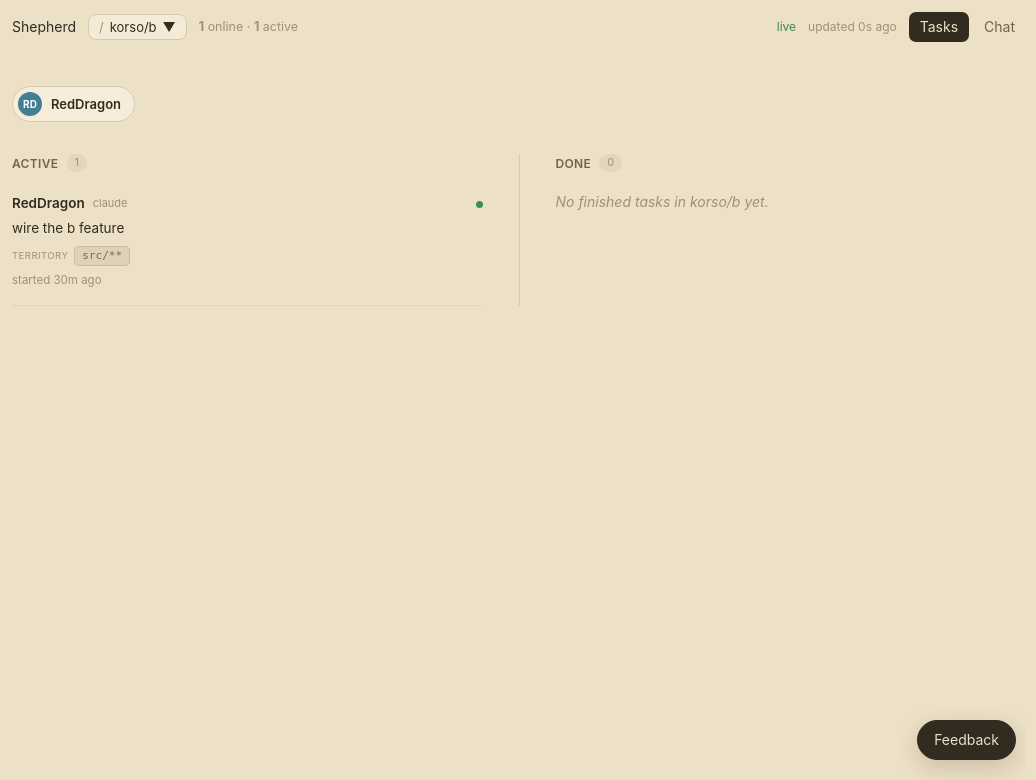
Test: Dashboard › shows the active/done column-count badges for the current filter
Expected: the text with id "active-count" reads "1", [74,155,79,169]
Expected: the text with id "done-count" reads "0", [607,155,614,169]
Switch to All repos: 2 active, 1 done across both repos.
Click the button with aria-label "Filter by repo" at (137, 27), box [88,14,187,40]
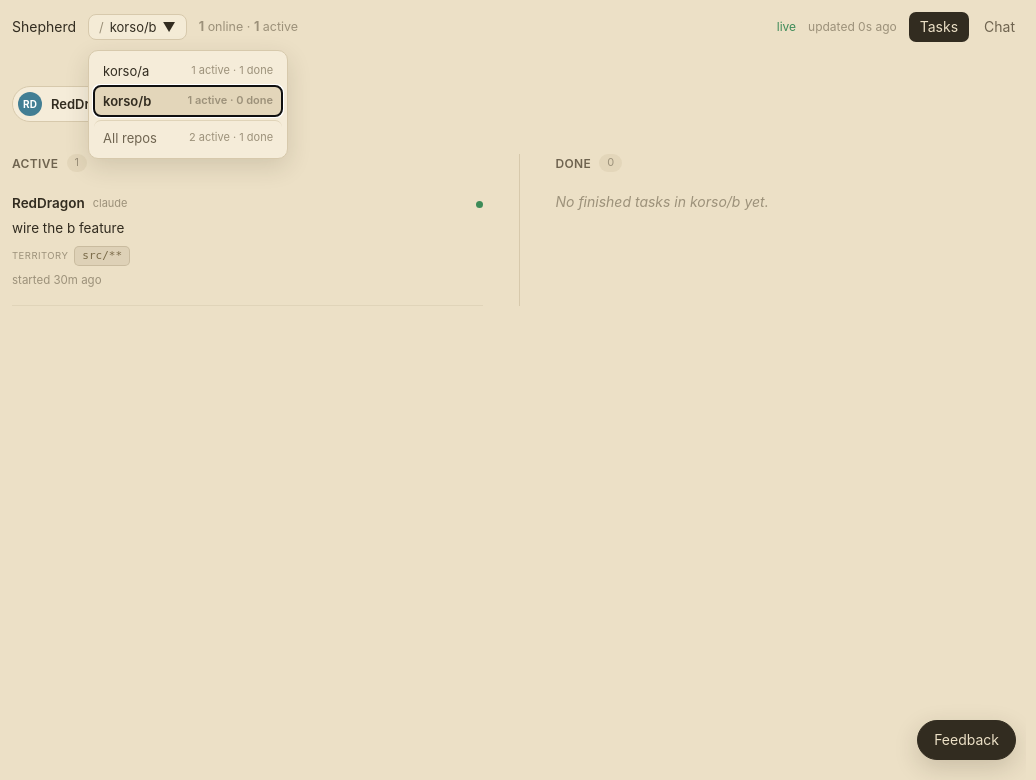
Click the option "All repos 2 active · 1 done" at (188, 137), box [94,120,282,153]
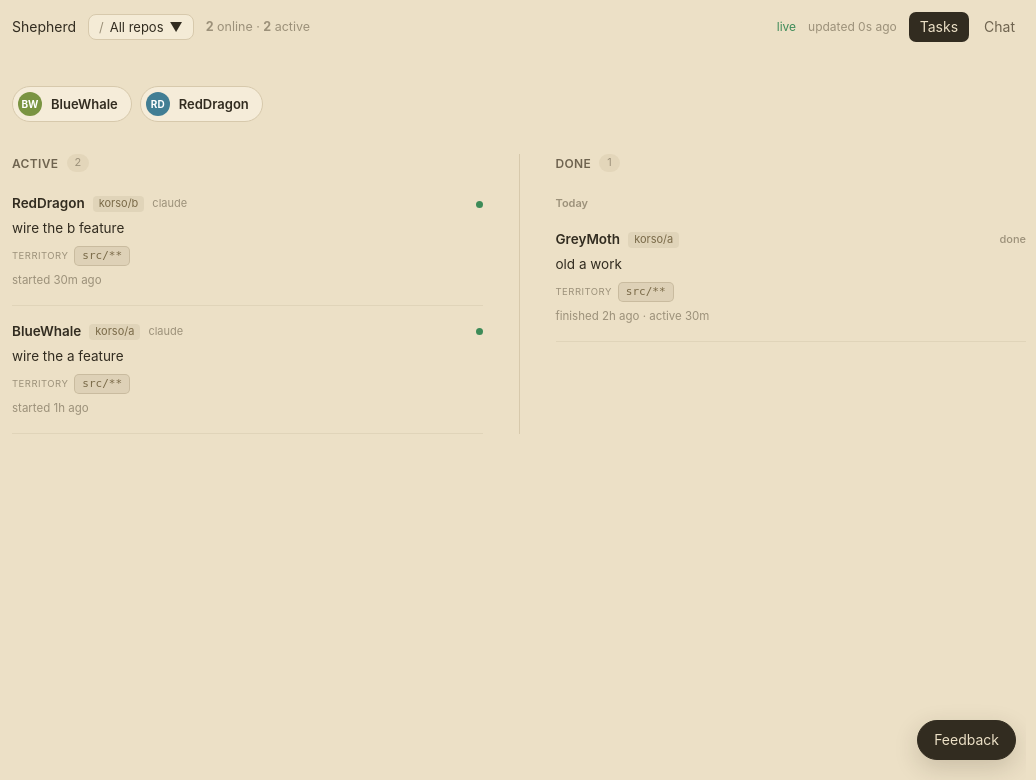
Expected: the text with id "active-count" reads "2", [74,155,81,169]
Expected: the text with id "done-count" reads "1", [607,155,612,169]
